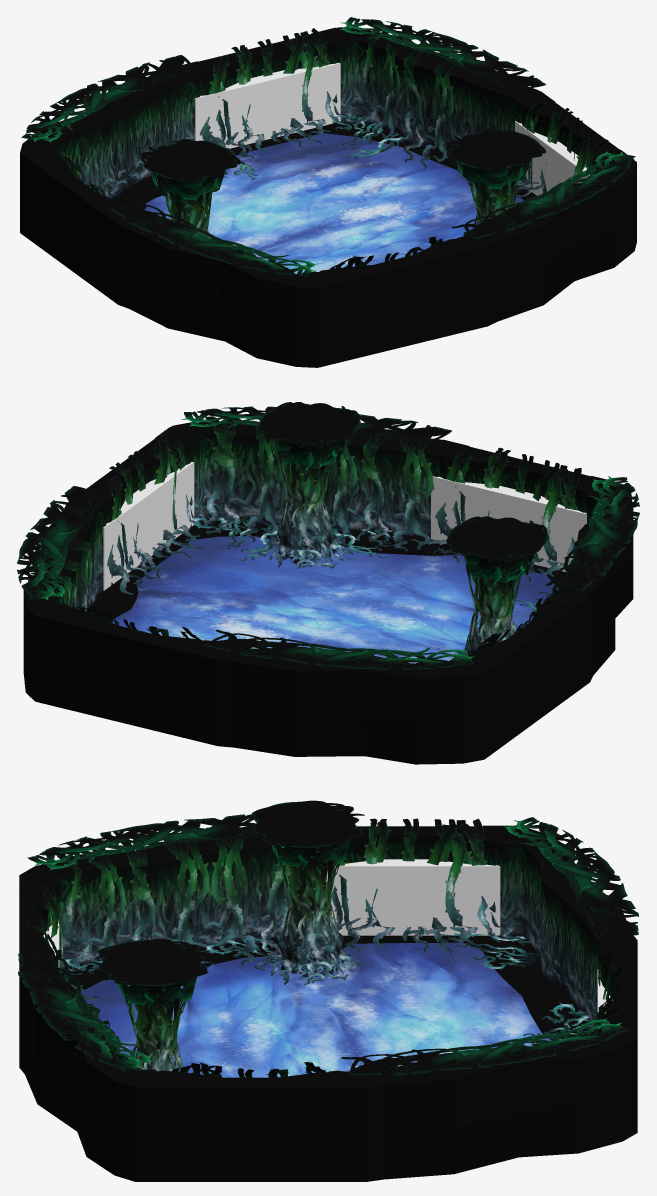
Rendered from Dungeon_012_Room_001.fbx.
3 views of the same model, one above another, from view 1: azimuth 30°, elevation 25°; view 2: azimuth 150°, elevation 25°; view 3: azimuth 270°, elevation 25° (orthographic). The views are drawn at different scales.
Visible parts, largest first — view 1: Dun_021_Room_001_Wall, Dun_021_Room_001_Ground, un_021_Door_002 (×4), Dun_021_Room_001_Object_03, DoorWay_NavMask (1) (×2), Dungeon_021_Object_010 (×2), un_021_Door_002_Object1 (×3), Dun_021_Room_001_Object_02, Dungeon_021_Object_011 (×2), Dun_021_Room_001_shadow, Dun_021_Room_001_Object_01; view 2: Dun_021_Room_001_Wall, Dun_021_Room_001_Ground, un_021_Door_002 (×4), Dun_021_Room_001_Object_03, DoorWay_NavMask (1) (×2), Dun_021_Room_001_Object_02, un_021_Door_002_Object1 (×3), Dungeon_021_Object_010 (×2), Dungeon_021_Object_011 (×2), Dun_021_Room_001_shadow, Dun_021_Room_001_Object_01; view 3: Dun_021_Room_001_Wall, Dun_021_Room_001_Ground, un_021_Door_002 (×4), Dun_021_Room_001_Object_03, Dungeon_021_Object_010 (×2), Dun_021_Room_001_Object_02, un_021_Door_002_Object1 (×4), DoorWay_NavMask (1), Dungeon_021_Object_011 (×2), Dun_021_Room_001_shadow, Dun_021_Room_001_Object_01, Dun_011_Door_002_shadow.
Part boxes in pixels (left/top/right/bottom): Dun_021_Room_001_Wall: left=20, top=27, right=636, bottom=367; Dun_021_Room_001_Ground: left=144, top=133, right=523, bottom=273; un_021_Door_002 (×4): left=22, top=27, right=634, bottom=360; Dun_021_Room_001_Object_03: left=21, top=17, right=635, bottom=276; DoorWay_NavMask (1) (×2): left=195, top=63, right=589, bottom=195; Dungeon_021_Object_010 (×2): left=140, top=128, right=546, bottom=201; un_021_Door_002_Object1 (×3): left=199, top=28, right=608, bottom=269; Dun_021_Room_001_Object_02: left=108, top=30, right=597, bottom=269; Dungeon_021_Object_011 (×2): left=163, top=165, right=517, bottom=238; Dun_021_Room_001_shadow: left=112, top=119, right=536, bottom=208; Dun_021_Room_001_Object_01: left=223, top=113, right=403, bottom=179; Dun_021_Room_001_Wall: left=23, top=422, right=633, bottom=764; Dun_021_Room_001_Ground: left=112, top=536, right=558, bottom=663; un_021_Door_002 (×4): left=40, top=427, right=614, bottom=746; Dun_021_Room_001_Object_03: left=17, top=406, right=639, bottom=669; DoorWay_NavMask (1) (×2): left=103, top=462, right=586, bottom=590; Dun_021_Room_001_Object_02: left=31, top=416, right=633, bottom=611; un_021_Door_002_Object1 (×3): left=75, top=430, right=581, bottom=640; Dungeon_021_Object_010 (×2): left=258, top=402, right=548, bottom=588; Dungeon_021_Object_011 (×2): left=258, top=438, right=521, bottom=658; Dun_021_Room_001_shadow: left=93, top=518, right=566, bottom=622; Dun_021_Room_001_Object_01: left=193, top=513, right=549, bottom=611; Dun_021_Room_001_Wall: left=19, top=828, right=637, bottom=1181; Dun_021_Room_001_Ground: left=81, top=942, right=551, bottom=1077; un_021_Door_002 (×4): left=19, top=825, right=637, bottom=1181; Dun_021_Room_001_Object_03: left=18, top=814, right=638, bottom=1075; Dungeon_021_Object_010 (×2): left=94, top=800, right=364, bottom=1009; Dun_021_Room_001_Object_02: left=56, top=832, right=594, bottom=1065; un_021_Door_002_Object1 (×4): left=26, top=818, right=630, bottom=1077; DoorWay_NavMask (1): left=326, top=859, right=500, bottom=935; Dungeon_021_Object_011 (×2): left=124, top=846, right=361, bottom=1071; Dun_021_Room_001_shadow: left=63, top=935, right=594, bottom=1043; Dun_021_Room_001_Object_01: left=65, top=933, right=595, bottom=1046; Dun_011_Door_002_shadow: left=353, top=935, right=462, bottom=943.
Size of what is drawn, in the model's own units: 12.21 by 3.03 by 12.21.
